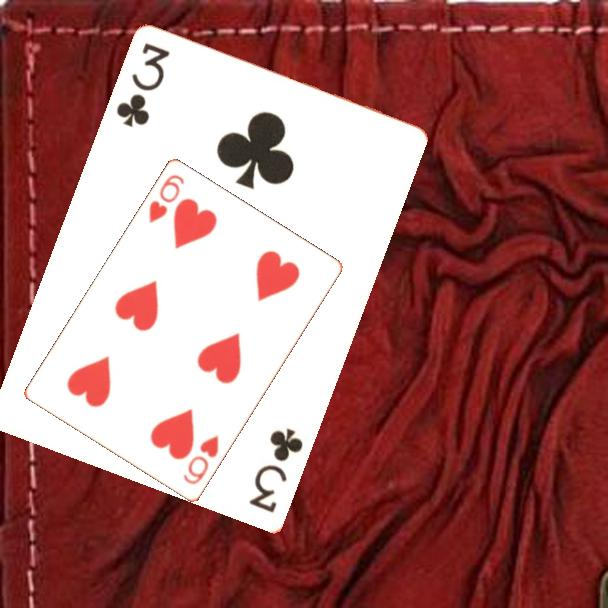c03: (245, 424, 307, 516), (112, 40, 173, 131)
h06: (180, 432, 222, 488), (145, 171, 187, 227)
